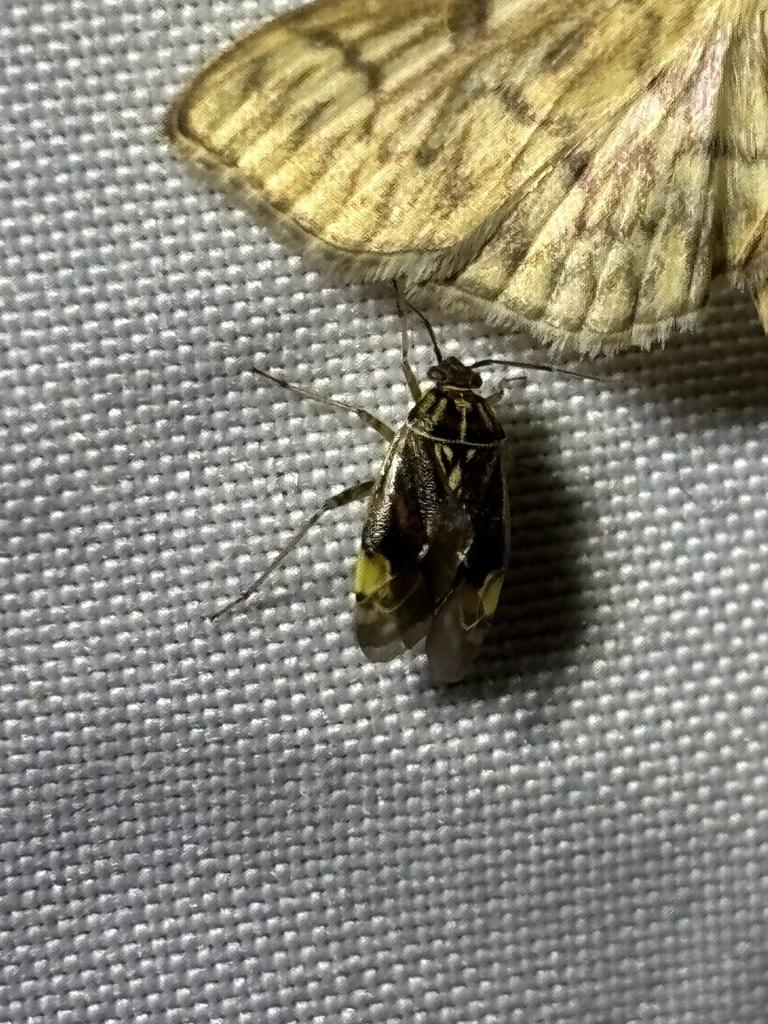plant_bugs: (145, 242, 657, 728)
